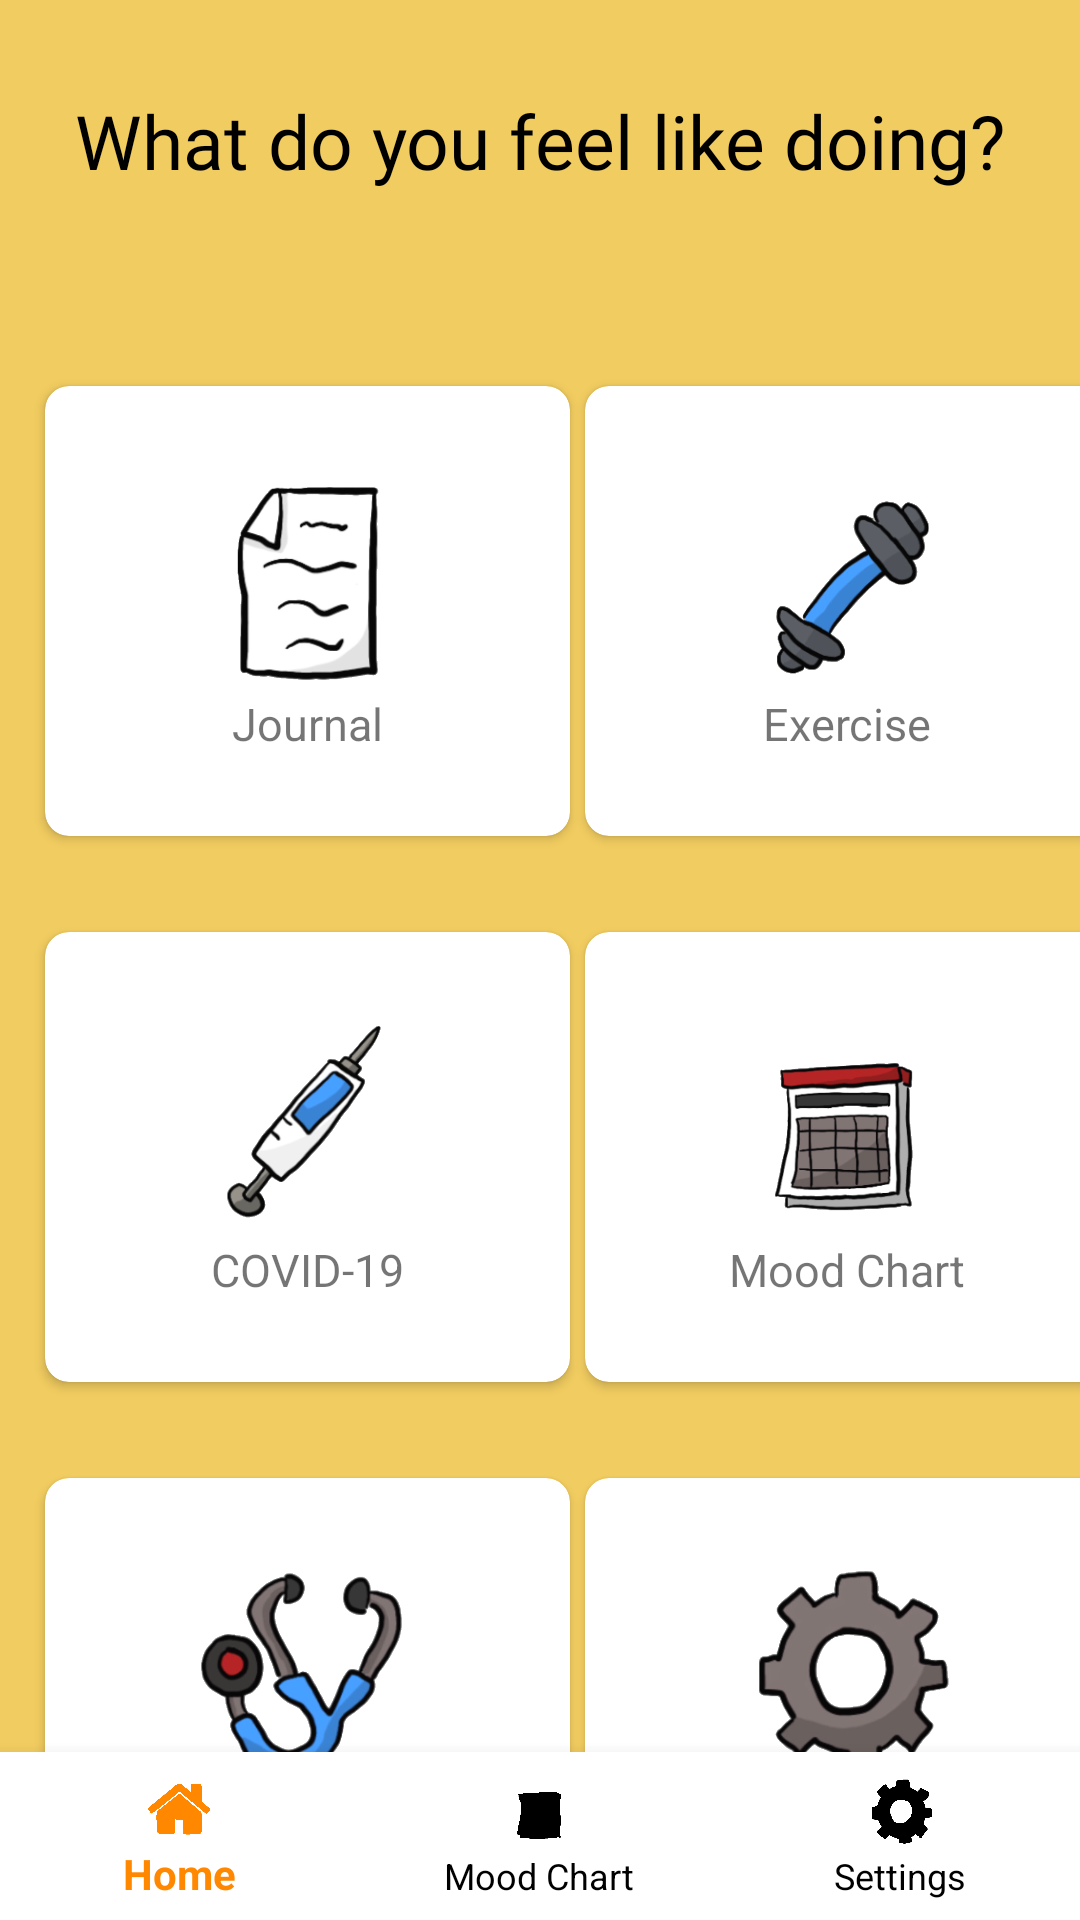

Where icons sit on this 1080w x 1920h app screen, as [left=x1, top=y1, right=x2, bottom=y2]:
calendar: [left=775, top=1063, right=913, bottom=1210]
